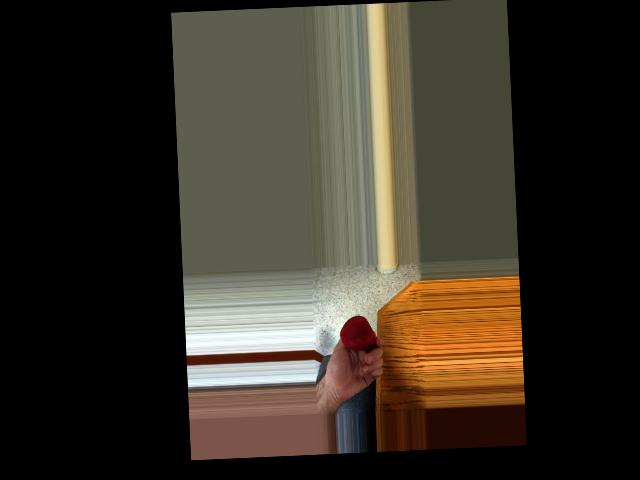apple: (338, 313, 376, 352)
